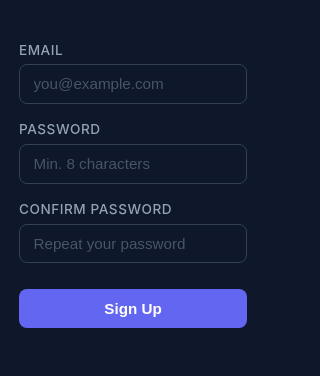
Test: SignupForm › shows a success message on valid submit
The width and height of the screenshot is (320, 376).
Type "user@example.com" into the field labelled "Email" at (133, 84), box x1=19 y1=64 x2=247 y2=104
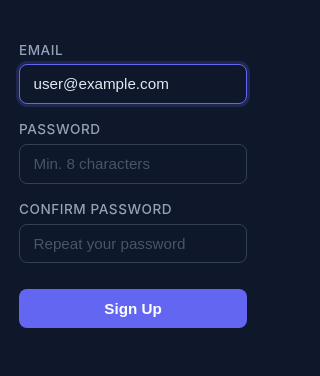
Type "password123" into the password field labelled "Password" at (133, 164), box x1=19 y1=144 x2=247 y2=184
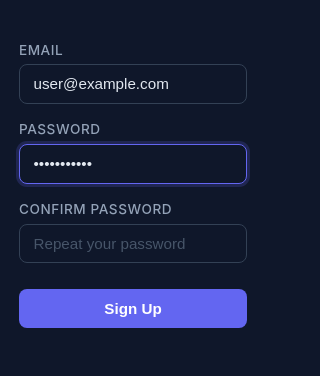
Type "password123" into the password field labelled "Confirm Password" at (133, 244), box x1=19 y1=224 x2=247 y2=263
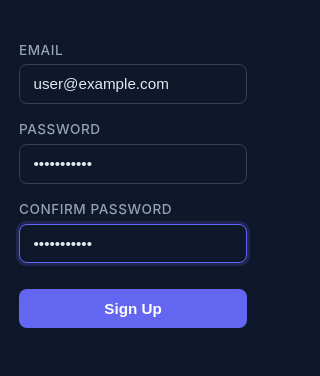
Click the button "Sign Up" at (133, 309), box x1=19 y1=289 x2=247 y2=328
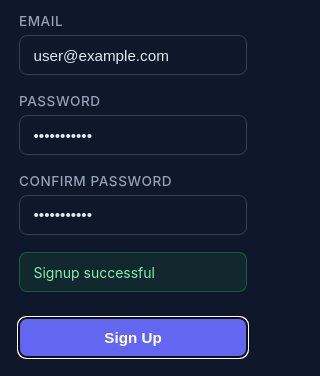
Expected: the text "Signup successful" is shown, x1=19 y1=252 x2=247 y2=292
